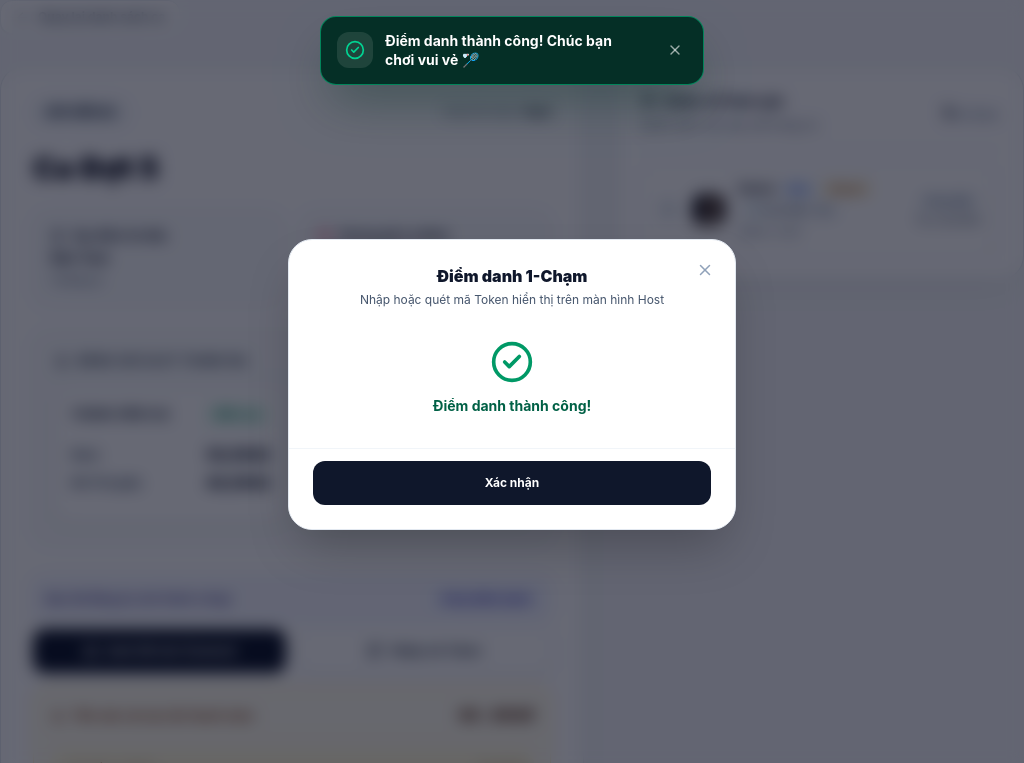
Test: SessionDetailView — link QR ?token= (5.8) › xử lý 1 lần: tự điểm danh, xóa ?token= khỏi URL, tải lại dữ liệu không mở lại popup
Click the button "Xác nhận" at (512, 482), box [313,460,711,504]
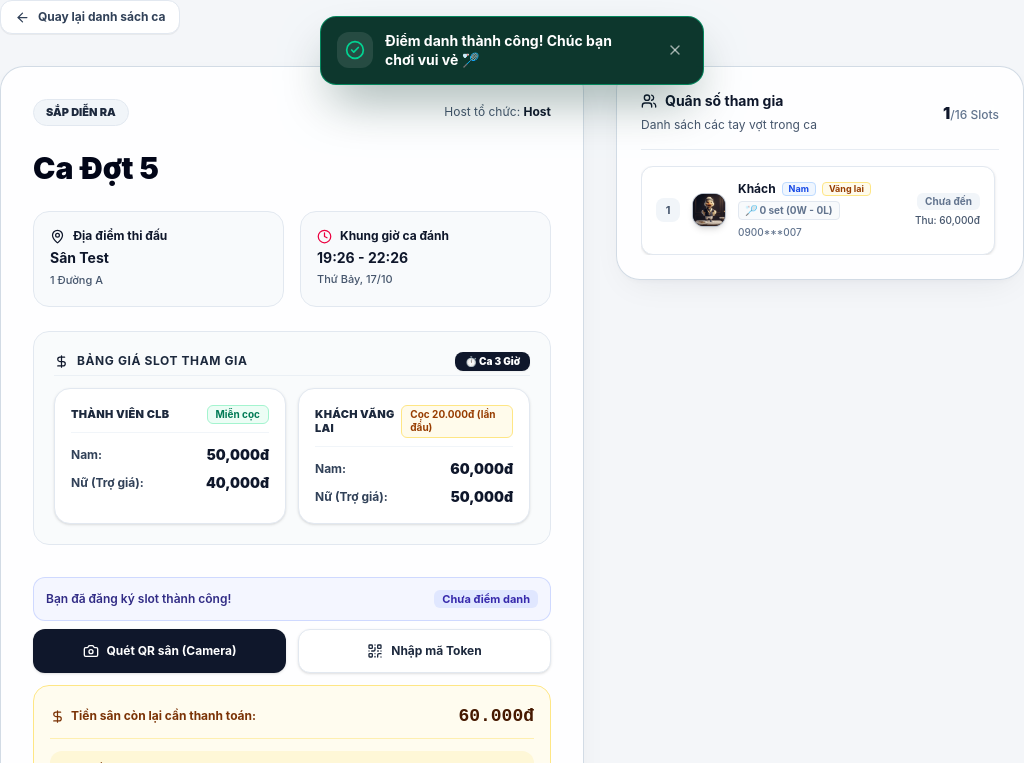
Result: the heading "Điểm danh 1-Chạm" is gone
